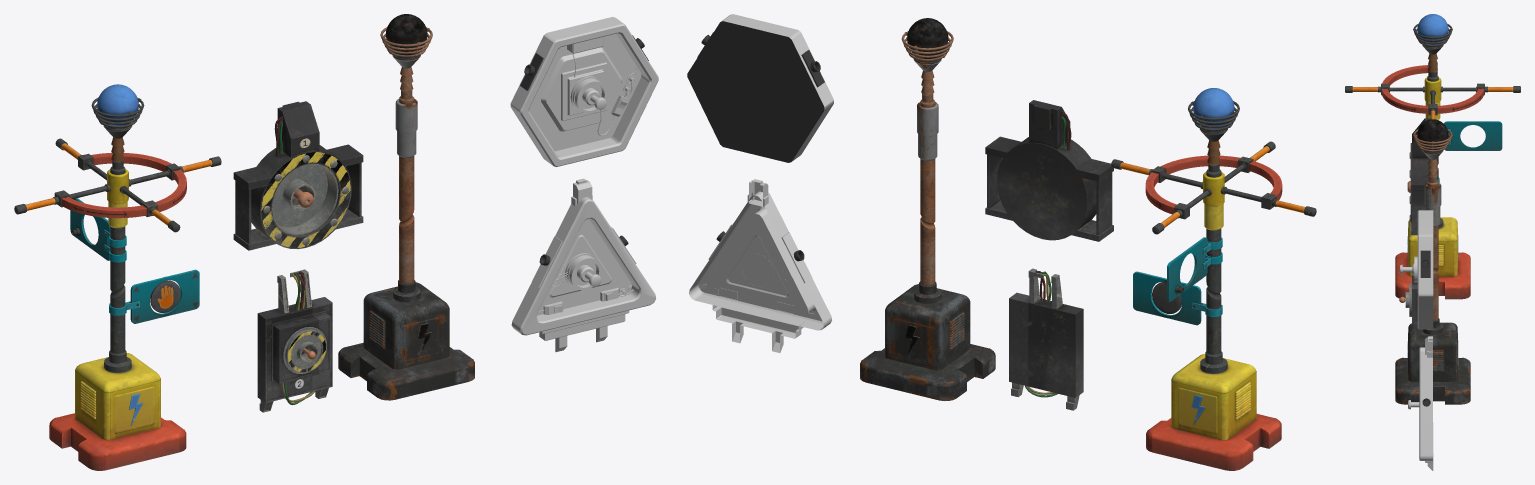
File: ElecAssets.fbx
3 renders of one model, left to right at view 1: azimuth 30°, elevation 25°; view 2: azimuth 150°, elevation 25°; view 3: azimuth 270°, elevation 25°, orthographic. The views are drawn at different scales.
Parts seen in each view (by area): view 1: PuzzlePole_Basic, PuzzlePole_Base, ElectricalPanel_B, PowerReceiver, ElectricalPanel_A, PowerSource, PuzzlePole_Wheel, PuzzlePole_LowerFlap, PuzzlePole_UpperFlap; view 2: PuzzlePole_Basic, PuzzlePole_Base, ElectricalPanel_B, ElectricalPanel_A, PowerReceiver, PowerSource, PuzzlePole_Wheel, PuzzlePole_LowerFlap, PuzzlePole_UpperFlap; view 3: PuzzlePole_Basic, PuzzlePole_Base, PuzzlePole_Wheel, ElectricalPanel_B, ElectricalPanel_A, PowerReceiver, PuzzlePole_UpperFlap, PowerSource.
Boxes of the visible parts, left/top/right/bottom form: PuzzlePole_Basic: left=338, top=14, right=474, bottom=400; PuzzlePole_Base: left=49, top=84, right=186, bottom=470; ElectricalPanel_B: left=510, top=17, right=658, bottom=166; PowerReceiver: left=233, top=101, right=363, bottom=250; ElectricalPanel_A: left=511, top=178, right=655, bottom=351; PowerSource: left=257, top=269, right=332, bottom=412; PuzzlePole_Wheel: left=14, top=138, right=221, bottom=232; PuzzlePole_LowerFlap: left=109, top=269, right=199, bottom=323; PuzzlePole_UpperFlap: left=70, top=198, right=126, bottom=262; PuzzlePole_Basic: left=860, top=18, right=995, bottom=400; PuzzlePole_Base: left=1146, top=88, right=1281, bottom=470; ElectricalPanel_B: left=687, top=14, right=833, bottom=162; ElectricalPanel_A: left=689, top=179, right=831, bottom=353; PowerReceiver: left=985, top=100, right=1113, bottom=241; PowerSource: left=1009, top=268, right=1083, bottom=410; PuzzlePole_Wheel: left=1111, top=141, right=1316, bottom=234; PuzzlePole_LowerFlap: left=1133, top=271, right=1222, bottom=325; PuzzlePole_UpperFlap: left=1167, top=237, right=1222, bottom=301; PuzzlePole_Basic: left=1395, top=119, right=1470, bottom=404; PuzzlePole_Base: left=1395, top=14, right=1470, bottom=299; PuzzlePole_Wheel: left=1345, top=65, right=1520, bottom=119; ElectricalPanel_B: left=1399, top=210, right=1433, bottom=329; ElectricalPanel_A: left=1408, top=336, right=1433, bottom=470; PowerReceiver: left=1407, top=118, right=1431, bottom=235; PuzzlePole_UpperFlap: left=1444, top=121, right=1502, bottom=150; PowerSource: left=1399, top=272, right=1417, bottom=322.
Size of the model in its own units: 548 by 308 by 177.
